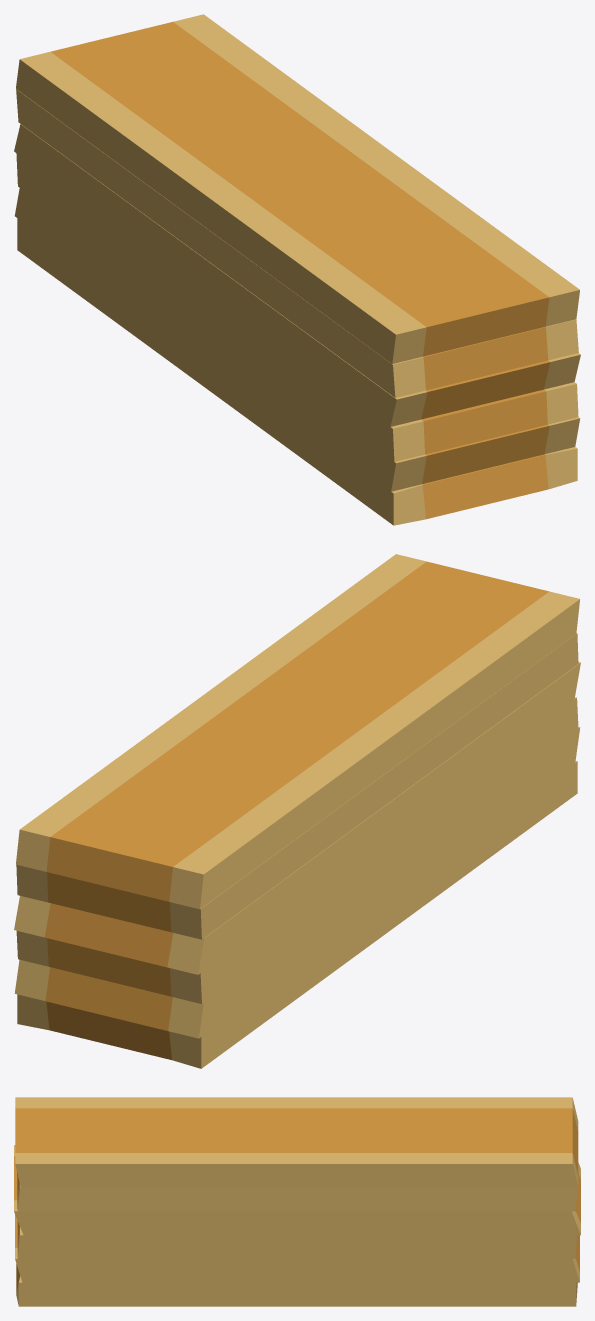
File: Planks.fbx
3 views of the same model, one above another, from view 1: azimuth 30°, elevation 25°; view 2: azimuth 150°, elevation 25°; view 3: azimuth 270°, elevation 25° (orthographic). The views are drawn at different scales.
Visible parts, largest first — view 1: Plank, Plank.003, Plank.005, Plank.001, Plank.004, Plank.002; view 2: Plank, Plank.002, Plank.004, Plank.001, Plank.005, Plank.003; view 3: Plank, Plank.002, Plank.005, Plank.001, Plank.004, Plank.003.
Boxes of the visible parts, x1=… form: Plank: x1=16, y1=14, x2=579, y2=363; Plank.003: x1=16, y1=153, x2=578, y2=461; Plank.005: x1=17, y1=218, x2=577, y2=525; Plank.001: x1=16, y1=89, x2=578, y2=397; Plank.004: x1=14, y1=188, x2=580, y2=491; Plank.002: x1=14, y1=124, x2=580, y2=426; Plank: x1=16, y1=554, x2=579, y2=909; Plank.002: x1=14, y1=662, x2=580, y2=974; Plank.004: x1=14, y1=727, x2=580, y2=1038; Plank.001: x1=16, y1=633, x2=578, y2=939; Plank.005: x1=17, y1=761, x2=577, y2=1068; Plank.003: x1=16, y1=697, x2=578, y2=1003; Plank: x1=15, y1=1097, x2=578, y2=1187; Plank.002: x1=14, y1=1145, x2=580, y2=1235; Plank.005: x1=16, y1=1264, x2=577, y2=1306; Plank.001: x1=17, y1=1172, x2=577, y2=1211; Plank.004: x1=15, y1=1214, x2=579, y2=1282; Plank.003: x1=17, y1=1221, x2=577, y2=1258.
Size of the model in its own units: 90.22 by 89.93 by 324.
